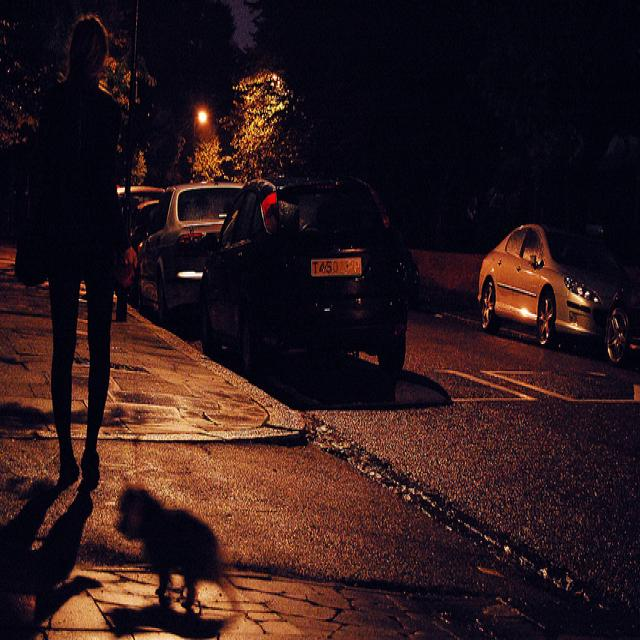Dog: (82, 449, 287, 626)
